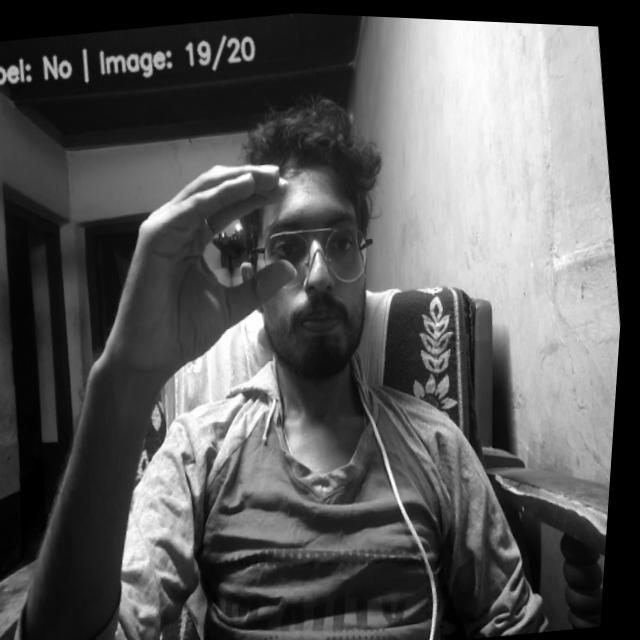No: (93, 142, 319, 386)
